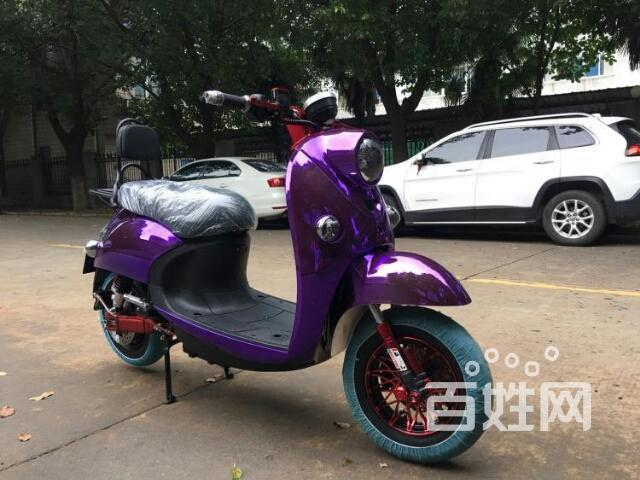电动车: (73, 77, 496, 463)
